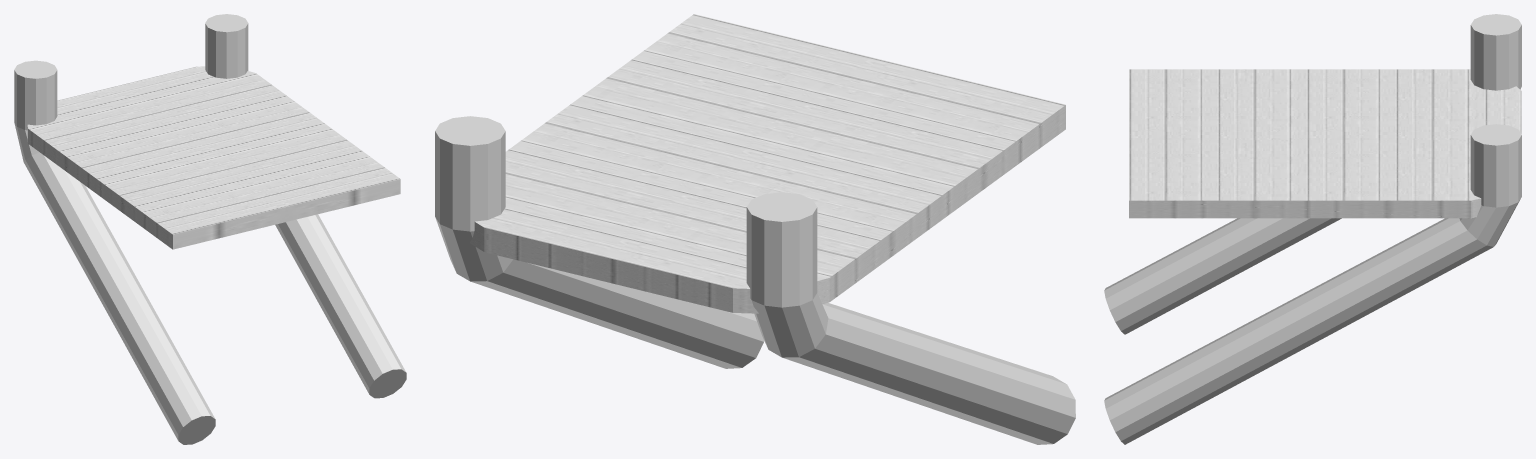
The model's file is airDock.fbx.
3 renders of one model, left to right at view 1: azimuth 30°, elevation 25°; view 2: azimuth 150°, elevation 25°; view 3: azimuth 270°, elevation 25°, orthographic. The views are drawn at different scales.
Visible parts, largest first — view 1: dockbase, dockPoles; view 2: dockbase, dockPoles; view 3: dockbase, dockPoles.
Part boxes in pixels (x1,y1,x2,y2): dockbase: (27, 66, 400, 249); dockPoles: (14, 14, 406, 444); dockbase: (470, 14, 1065, 313); dockPoles: (435, 116, 1075, 444); dockbase: (1129, 69, 1521, 218); dockPoles: (1104, 14, 1521, 444).
Size of the model in its own units: 200 by 218 by 269.
